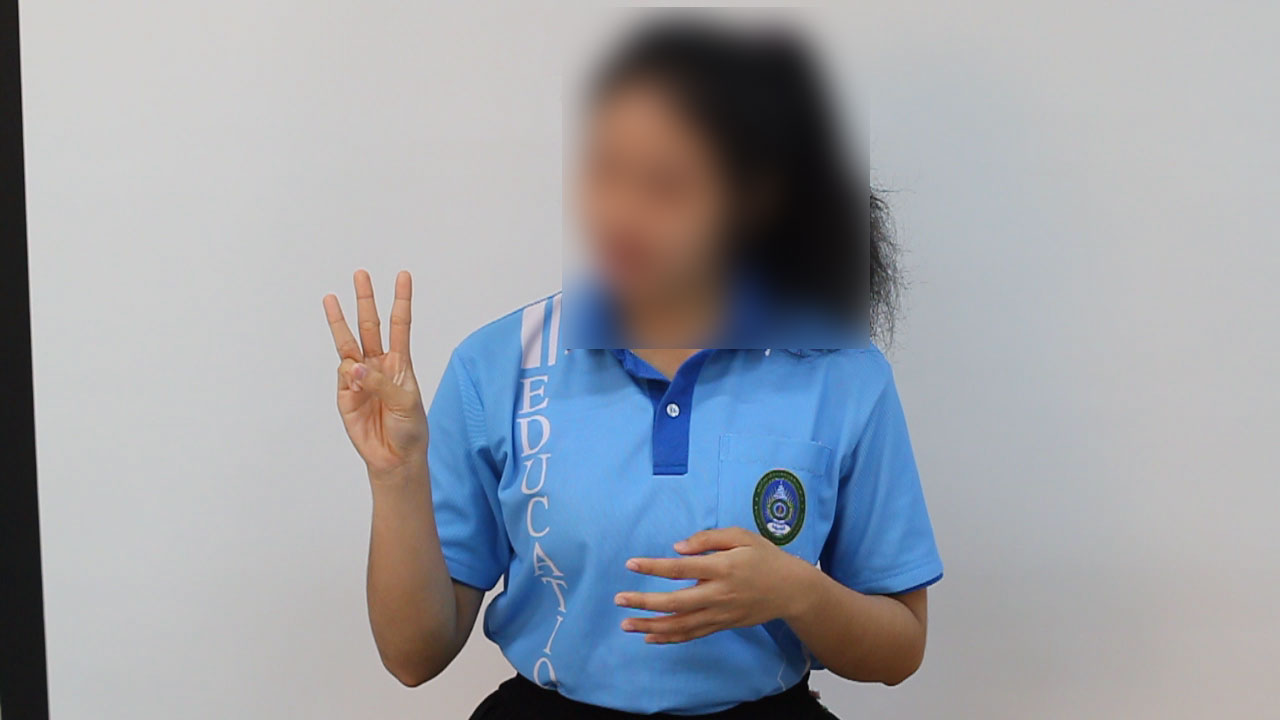wor: (313, 259, 438, 483)
